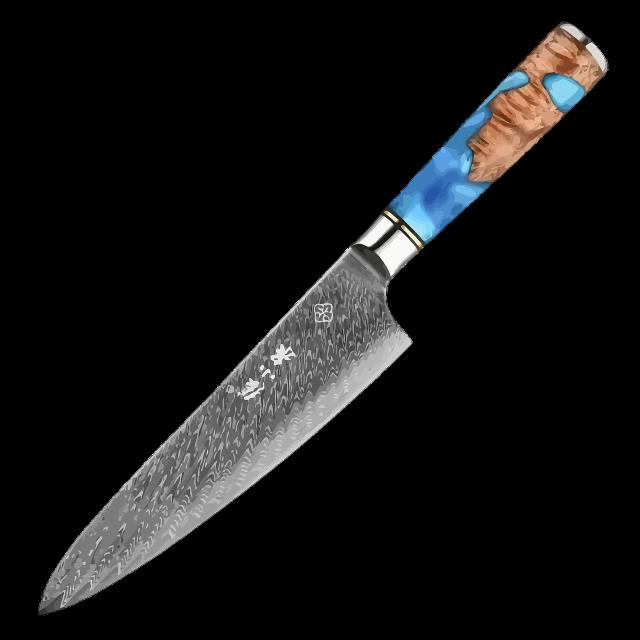Knife: (39, 24, 608, 615)
